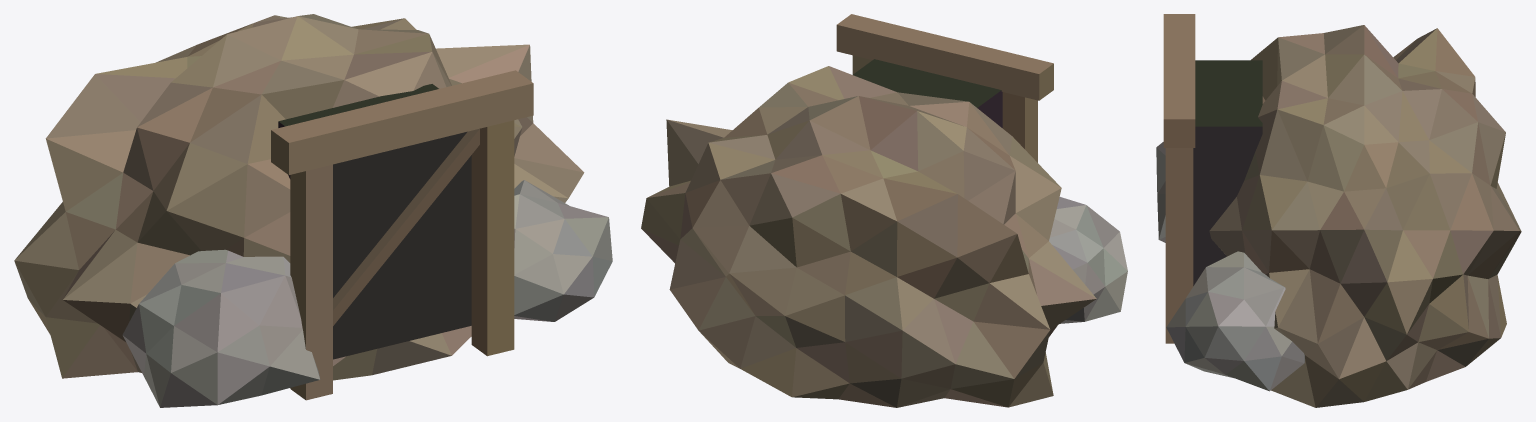
The model's file is Piece_Mineshaft.glb.
3 views of the same model, side by side, from view 1: azimuth 30°, elevation 25°; view 2: azimuth 150°, elevation 25°; view 3: azimuth 270°, elevation 25° (orthographic). The views are drawn at different scales.
Parts seen in each view (by area): view 1: Piece_Mineshaft; view 2: Piece_Mineshaft; view 3: Piece_Mineshaft.
Part boxes in pixels (x1,y1,x2,y2): Piece_Mineshaft: (14,14,612,407); Piece_Mineshaft: (641,14,1127,407); Piece_Mineshaft: (1156,14,1521,407).
Bounding box in the file's own units: 5.76 × 3.22 × 3.95.
